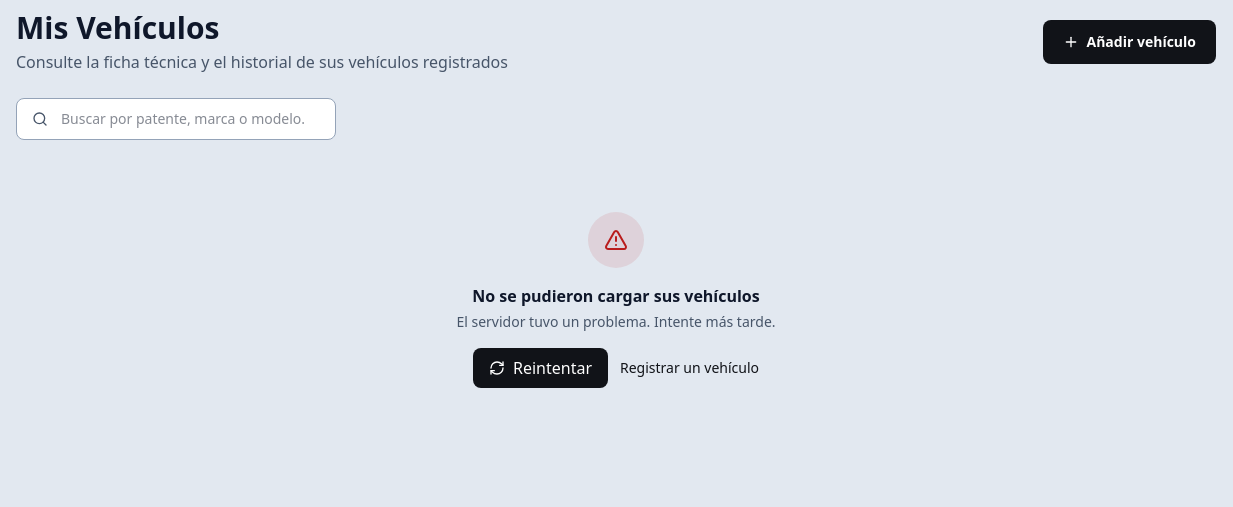
Test: ClientVehiclesPage: mis vehículos y sus estados › reintenta la carga al pulsar el botón del estado de error
Click the button "Reintentar" at (540, 368), box [473,348,608,388]
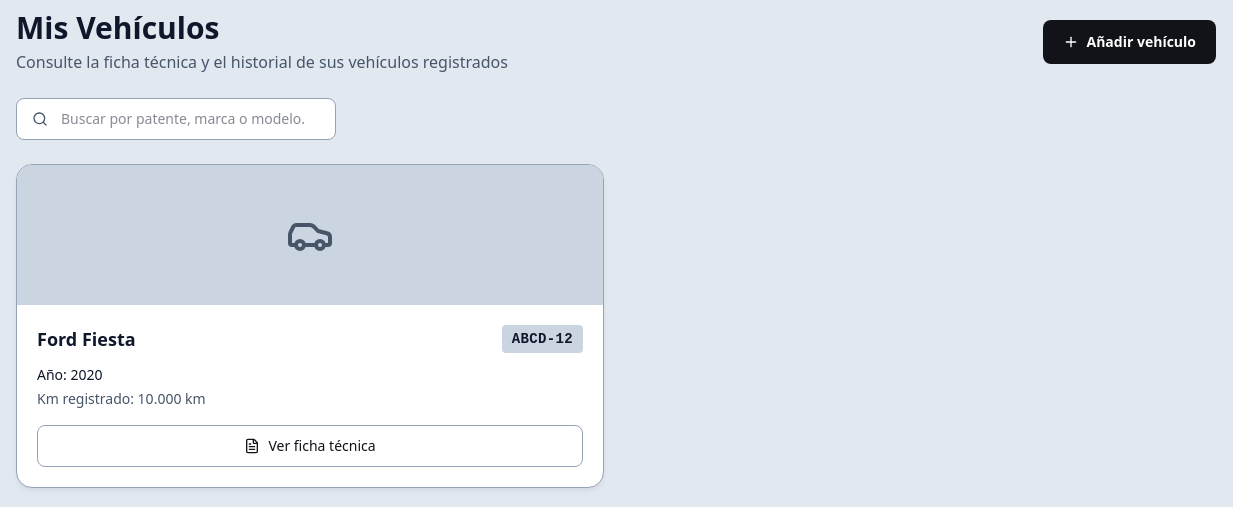
Expected: the heading "Ford Fiesta" is shown, [37,325,136,353]
